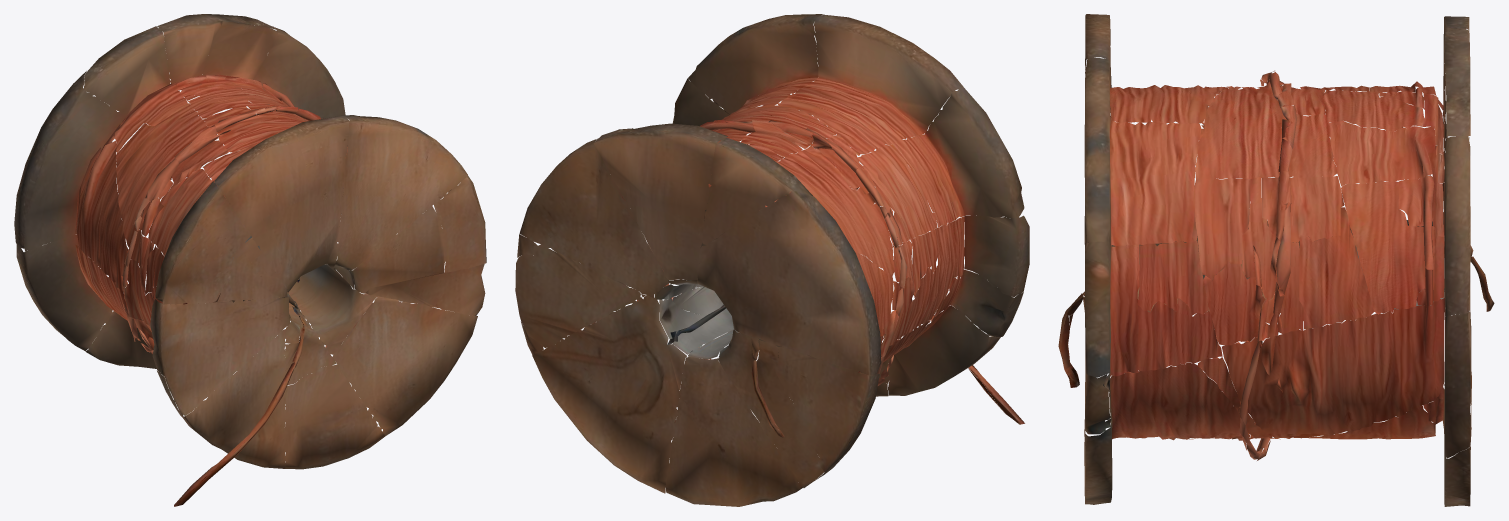
Rendered from wire_spool.glb.
3 views of the same model, side by side, from view 1: azimuth 30°, elevation 25°; view 2: azimuth 150°, elevation 25°; view 3: azimuth 270°, elevation 25° (orthographic). The views are drawn at different scales.
Parts seen in each view (by area): view 1: tripo_node_0131bb0e-f613-4feb-a28f-a696154f1ecd; view 2: tripo_node_0131bb0e-f613-4feb-a28f-a696154f1ecd; view 3: tripo_node_0131bb0e-f613-4feb-a28f-a696154f1ecd.
Part boxes in pixels (left/top/right/bottom): tripo_node_0131bb0e-f613-4feb-a28f-a696154f1ecd: left=14, top=14, right=486, bottom=506; tripo_node_0131bb0e-f613-4feb-a28f-a696154f1ecd: left=515, top=14, right=1029, bottom=506; tripo_node_0131bb0e-f613-4feb-a28f-a696154f1ecd: left=1058, top=14, right=1494, bottom=506.
Size of the model in its own units: 0.9973 by 0.9892 by 0.8764.
1 material, 1 textured.
